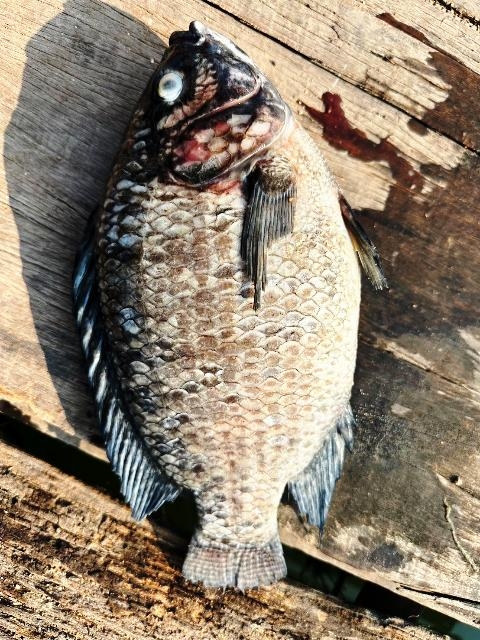Aeromonas Septicemia: (69, 22, 387, 595), (73, 21, 386, 589)
